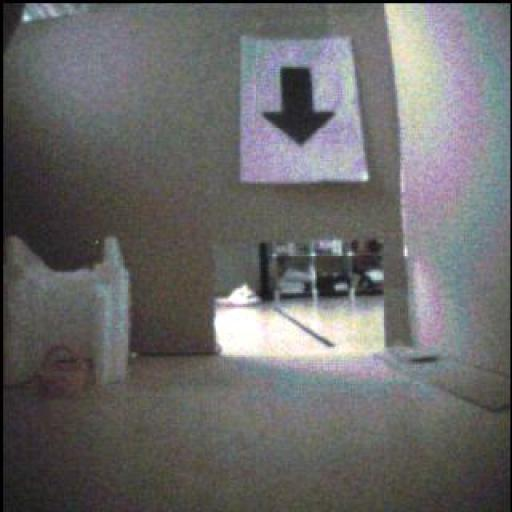arrow: (264, 68, 336, 147)
